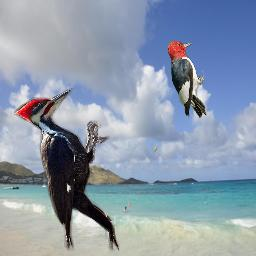Woodpecker: (14, 88, 120, 251), (168, 40, 207, 118)
